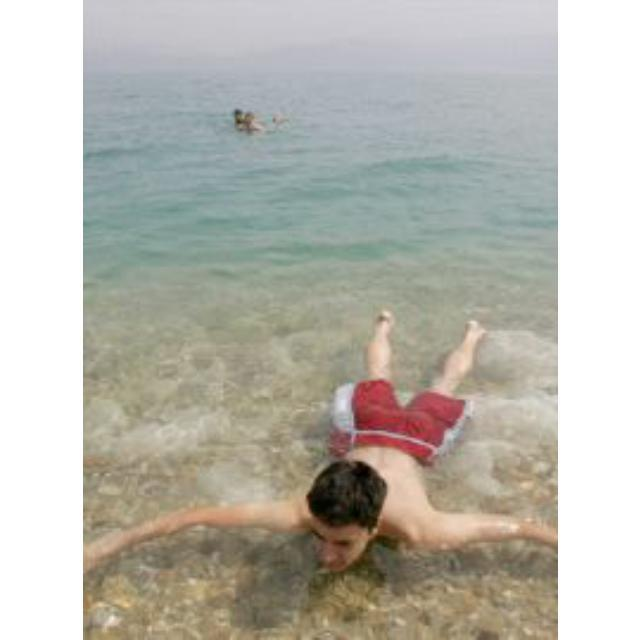human: (83, 301, 556, 598), (229, 105, 259, 133)
